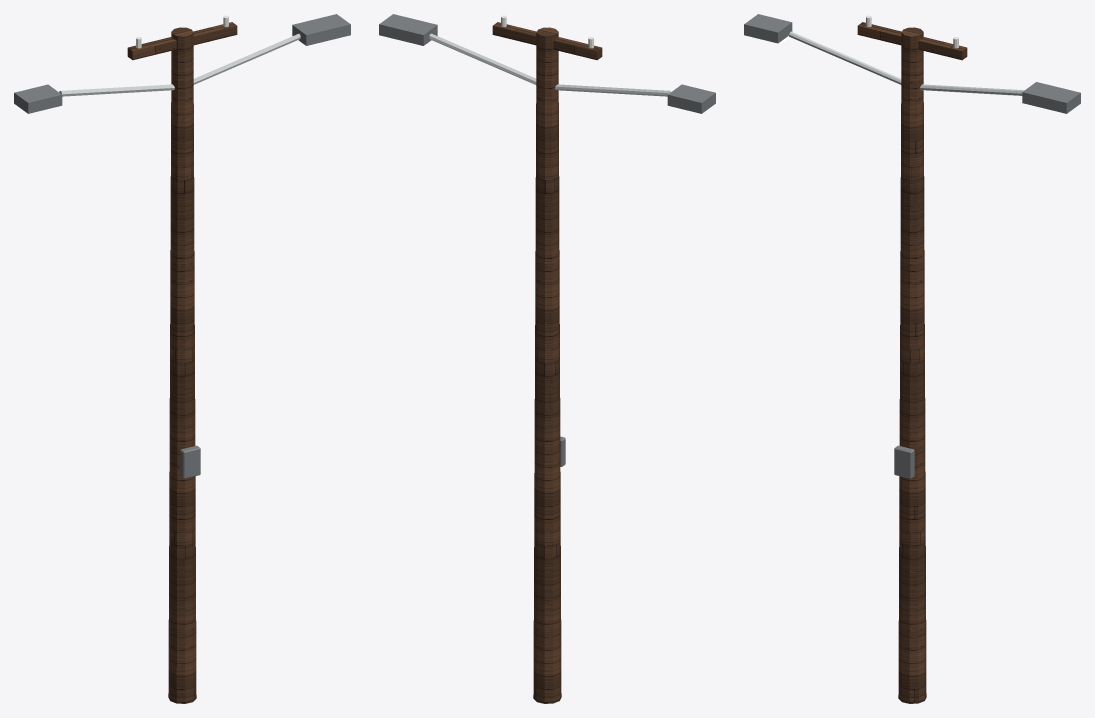
Rendered from light_pole.glb.
3 views of the same model, side by side, from view 1: azimuth 30°, elevation 25°; view 2: azimuth 150°, elevation 25°; view 3: azimuth 330°, elevation 25° (orthographic).
Parts seen in each view (by area): view 1: light_pole_dkwood, light_pole_steel_d, light_pole_galv; view 2: light_pole_dkwood, light_pole_steel_d, light_pole_galv; view 3: light_pole_dkwood, light_pole_steel_d, light_pole_galv.
Part boxes in pixels (x1,y1,x2,y2): light_pole_dkwood: (127,22,237,703); light_pole_steel_d: (14,14,350,478); light_pole_galv: (59,33,300,96); light_pole_dkwood: (492,22,602,703); light_pole_steel_d: (379,14,715,466); light_pole_galv: (429,33,670,96); light_pole_dkwood: (857,22,967,703); light_pole_steel_d: (744,14,1080,478); light_pole_galv: (789,31,1024,95).
Size of the model in its own units: 3.7 by 7.35 by 0.34.
Materials: 5 (1 with a texture image).
